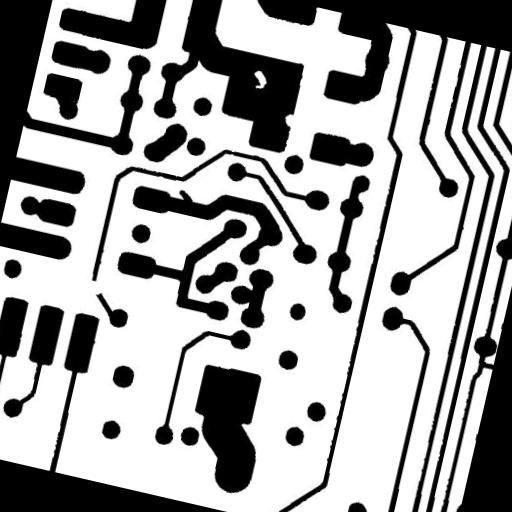copper: (279, 293, 316, 331)
mousebite: (274, 104, 308, 139)
open: (76, 270, 112, 304)
pin-hole: (242, 60, 278, 100)
spur: (167, 180, 206, 218)
